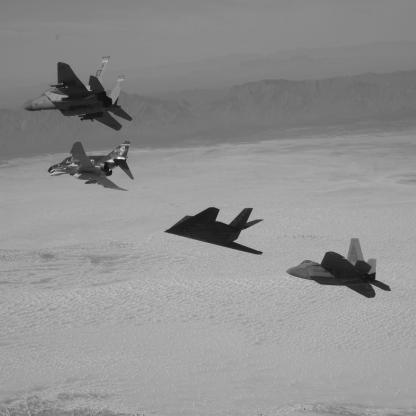F117: (164, 208, 265, 256)
F15: (24, 56, 134, 132)
F22: (287, 239, 393, 300)
F4: (46, 140, 135, 192)
